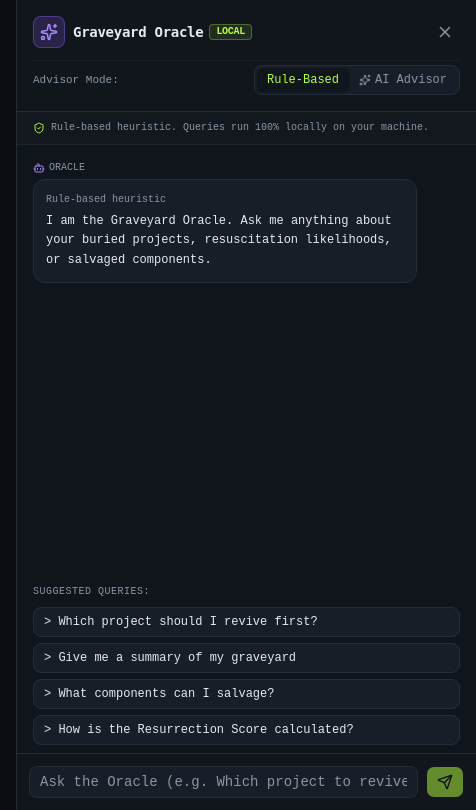
Test: OraclePanel Component › toggles between Local Rule-Based and AI Advisor modes
Click the button "AI Advisor" at (403, 80), box [349, 68, 457, 92]
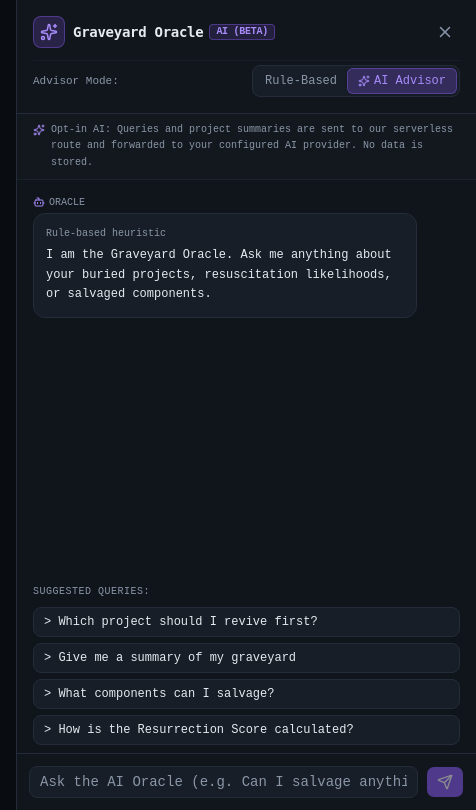
Now the text "AI (BETA)" is shown, box [209, 24, 275, 40]
Now the text "Opt-in AI: Queries and project summaries are sent to our serverless route and forwarded to your configured AI provider. " is shown, box [51, 124, 453, 168]
Click the button "Rule-Based" at (301, 81), box [255, 68, 347, 94]
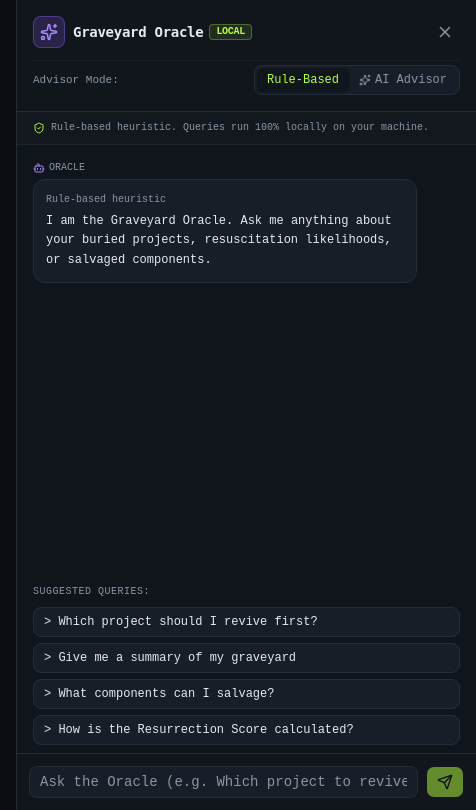
Now the text "LOCAL" is shown, box [209, 24, 252, 40]
